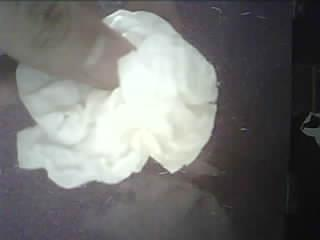paper: (18, 10, 218, 187)
